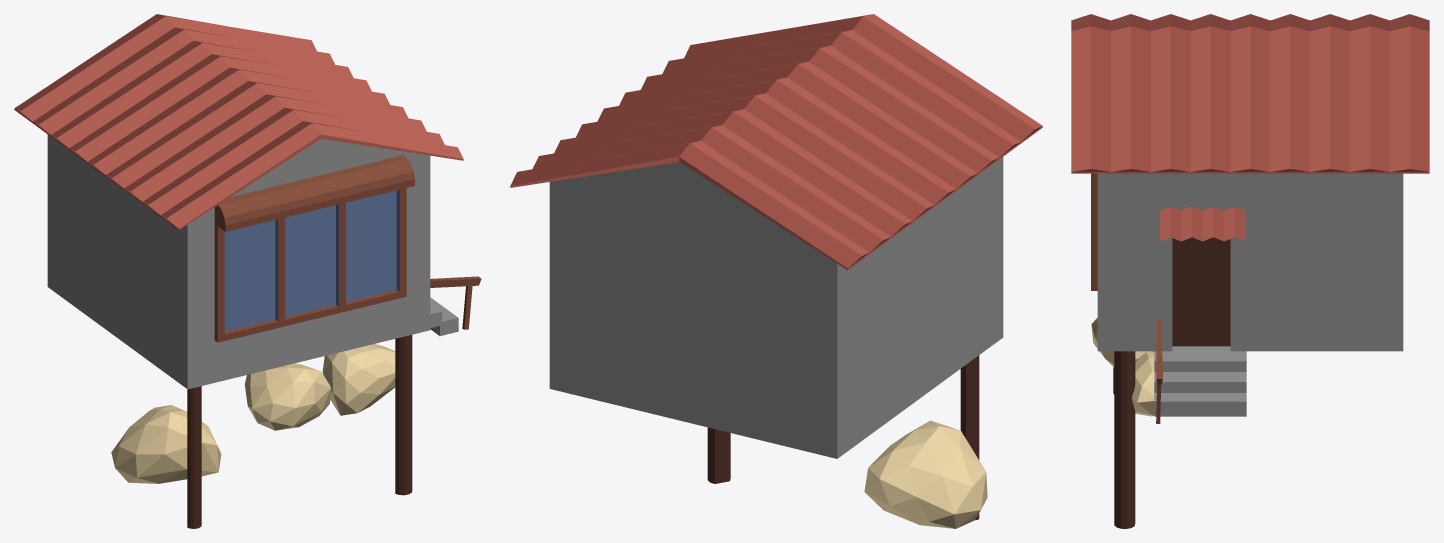
The model's file is building-d.glb.
3 views of the same model, side by side, from view 1: azimuth 30°, elevation 25°; view 2: azimuth 150°, elevation 25°; view 3: azimuth 270°, elevation 25° (orthographic). The views are drawn at different scales.
Parts seen in each view (by area): view 1: building-d; view 2: building-d; view 3: building-d.
Part boxes in pixels (x1,y1,x2,y2): building-d: [14, 14, 481, 528]; building-d: [510, 14, 1042, 528]; building-d: [1071, 14, 1429, 528].
Bounding box in the file's own units: 1.27 × 1.42 × 1.04.
